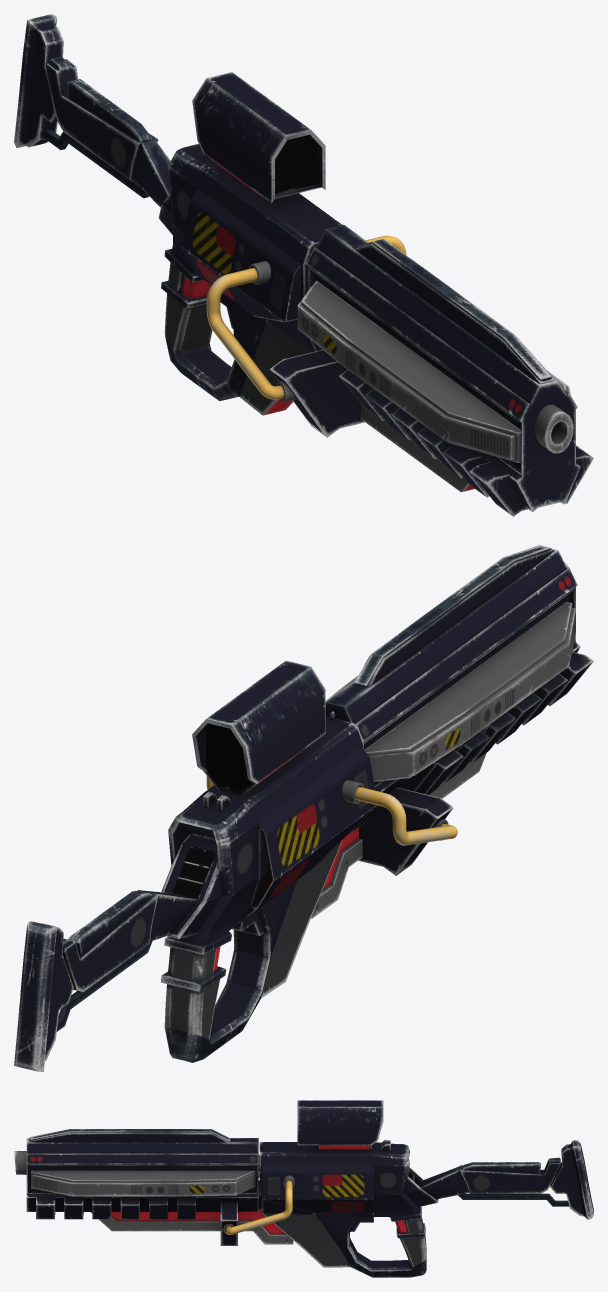
The model's file is SniperRifle_01.fbx.
3 renders of one model, top to bottom at view 1: azimuth 30°, elevation 25°; view 2: azimuth 150°, elevation 25°; view 3: azimuth 270°, elevation 25°, orthographic. The views are drawn at different scales.
Visible parts, largest first — view 1: Sniper Rifle; view 2: Sniper Rifle; view 3: Sniper Rifle.
Part boxes in pixels (box(x1,y1,x2,y2)): Sniper Rifle: box(14, 14, 593, 516); Sniper Rifle: box(14, 545, 593, 1071); Sniper Rifle: box(14, 1100, 593, 1277).
Bounding box in the file's own units: 0.2321 × 0.3544 × 1.09.
